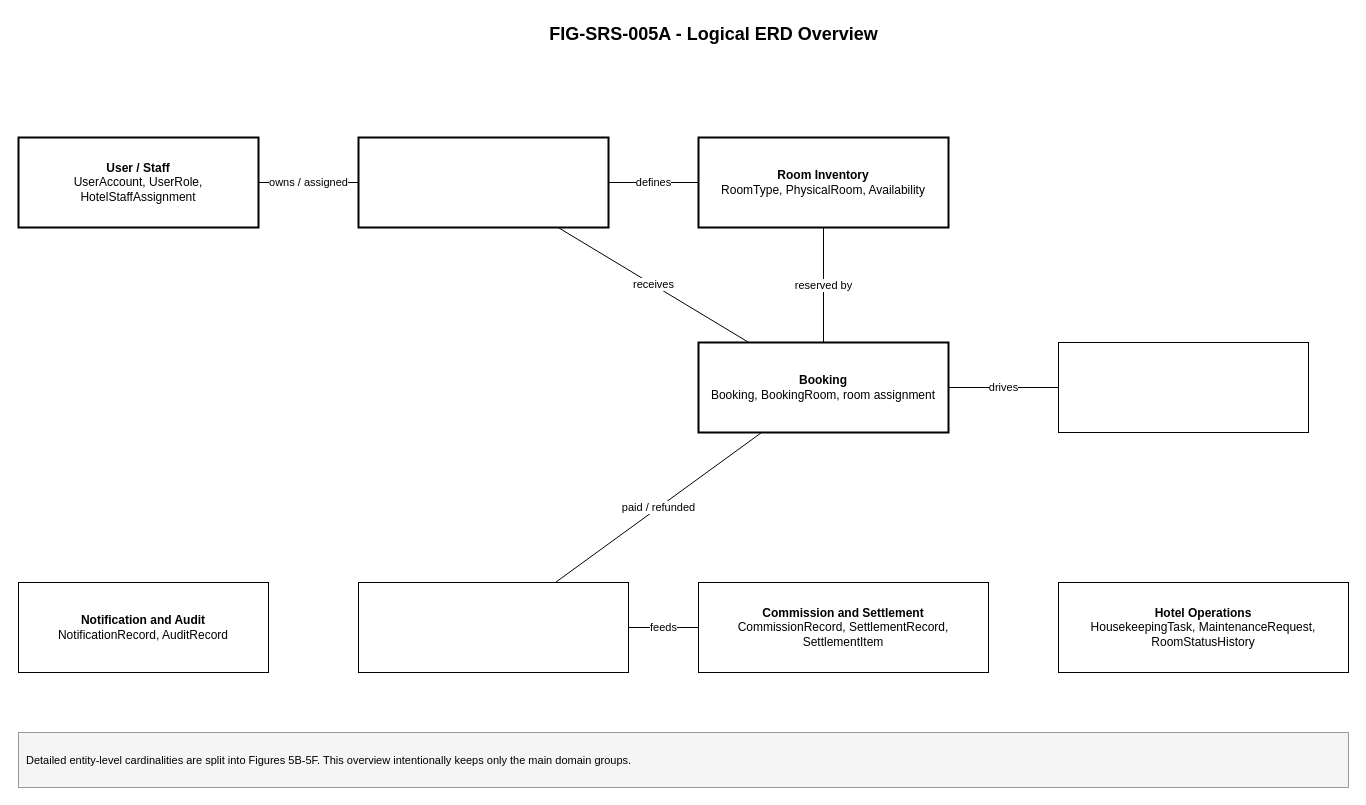
The diagram is 1366 pixels wide and 805 high, and some of its shapes have lost their labels. The centre of each missing label's shape, as x and y in pixels:
"Hotel Property HotelProperty, profile, approval, policy" belongs at (483,182).
"Payment and Refund PaymentTransaction, Collection, Refund, Invoice" belongs at (493,627).
"Stay Operation Check-in, check-out, guest stay record" belongs at (1183,387).
